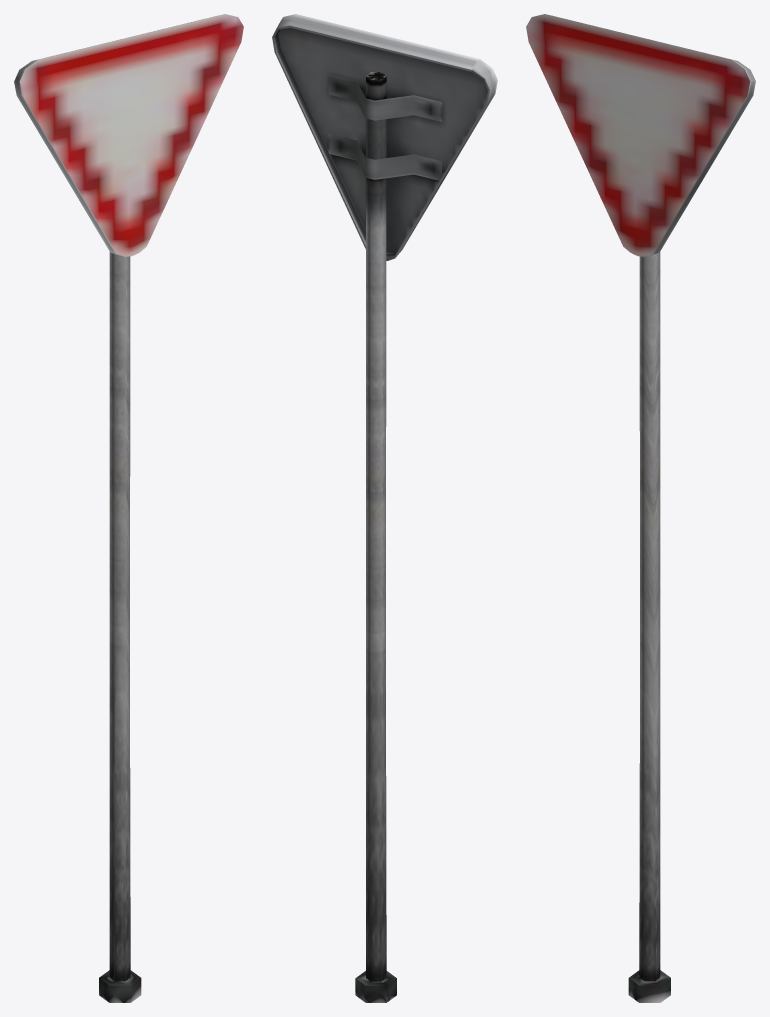
File: sign_giveway.glb
3 views of the same model, side by side, from view 1: azimuth 30°, elevation 25°; view 2: azimuth 150°, elevation 25°; view 3: azimuth 330°, elevation 25° (orthographic).
Parts seen in each view (by area): view 1: sign_giveway; view 2: sign_giveway; view 3: sign_giveway.
Boxes of the visible parts, x1,y1,x2,y2 form: sign_giveway: [14, 14, 243, 1002]; sign_giveway: [272, 14, 497, 1002]; sign_giveway: [526, 14, 755, 1002].
Bounding box in the file's own units: 0.631 × 2.6 × 0.109.
Materials: 1 (1 with a texture image).
